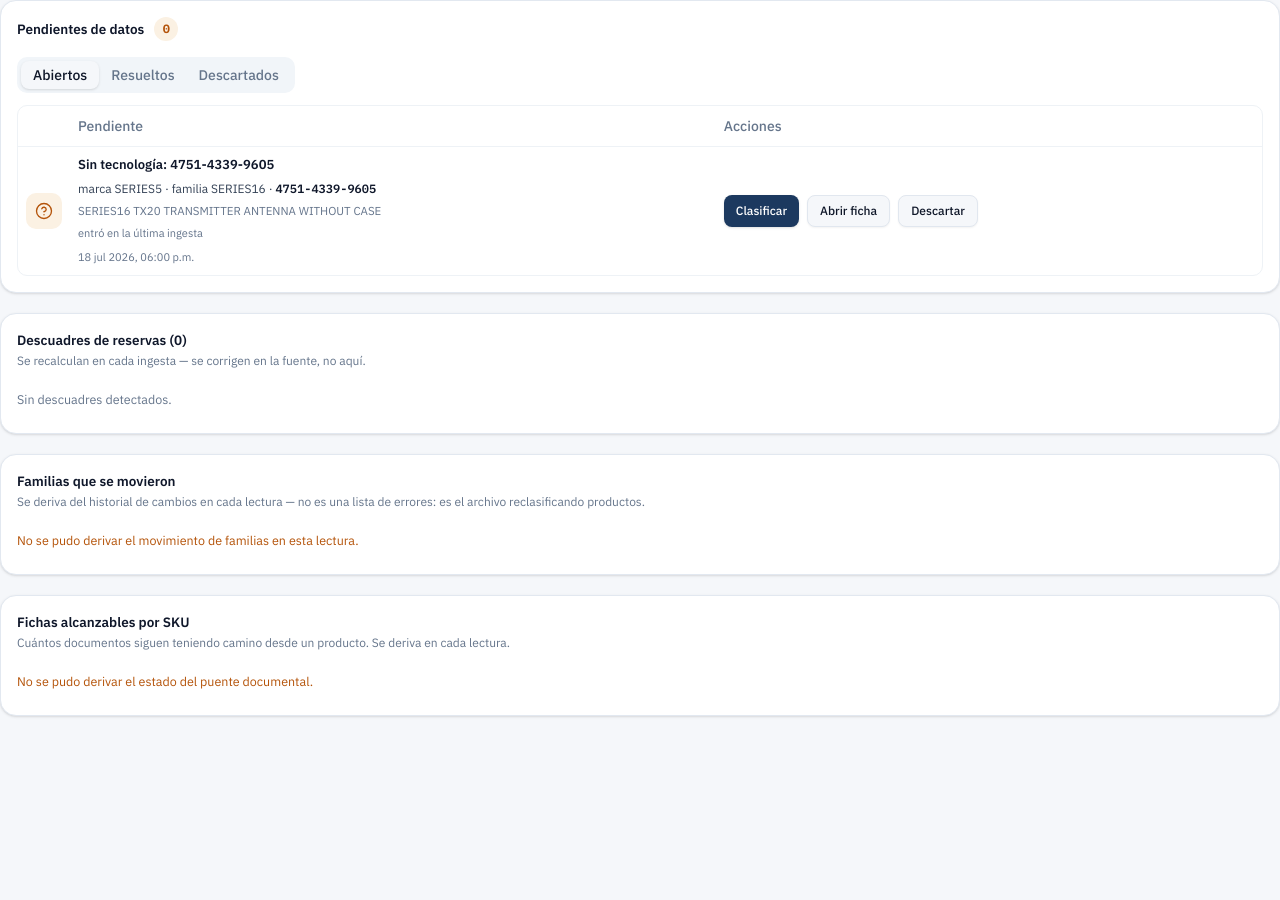
Test: BandejaView › sku_sin_tecnologia: el diálogo ofrece el vocabulario DECLARADO, no una lista vacía
Click the button "Clasificar" at (761, 210), box [724, 194, 799, 226]
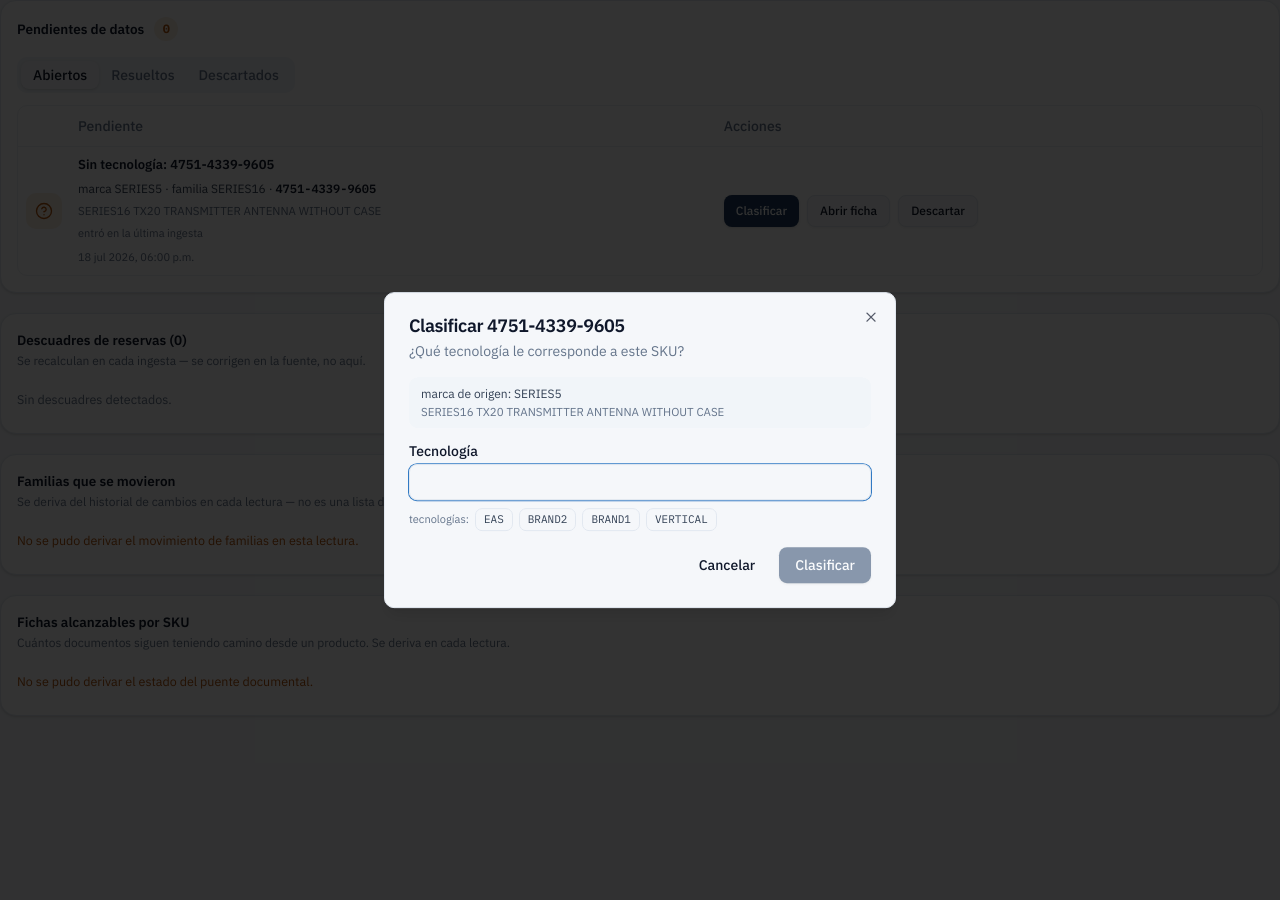
Now the button "EAS" is shown, box [475, 508, 513, 531]
Now the button "BRAND2" is shown, box [519, 508, 576, 531]
Now the button "BRAND1" is shown
// Un clic llena el campo: es lo que evita teclear la misma palabra muchas veces.
Click the button "BRAND1" at (611, 520), box [582, 508, 640, 531]
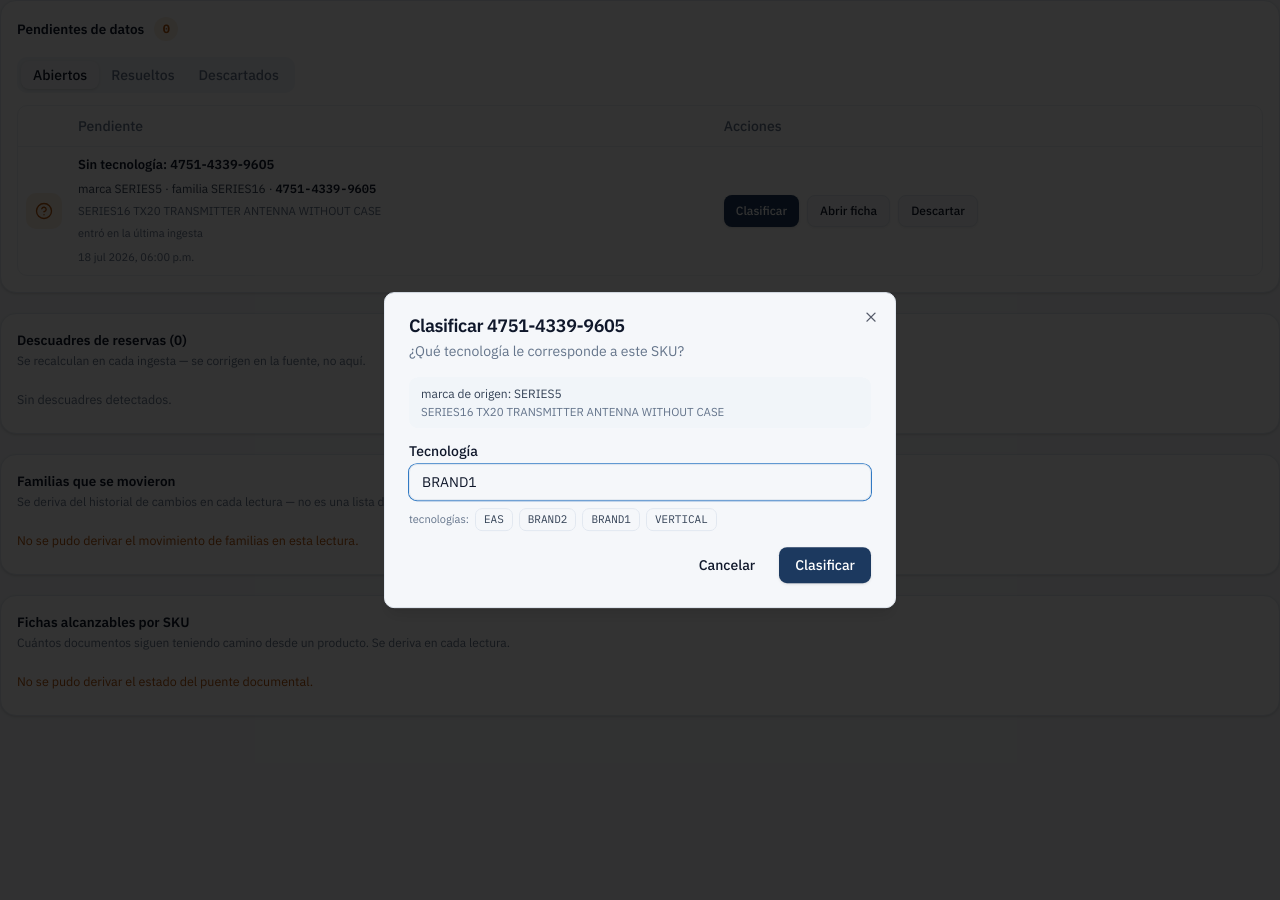
Now the field labelled "Tecnología" holds "BRAND1", box [409, 464, 871, 500]
